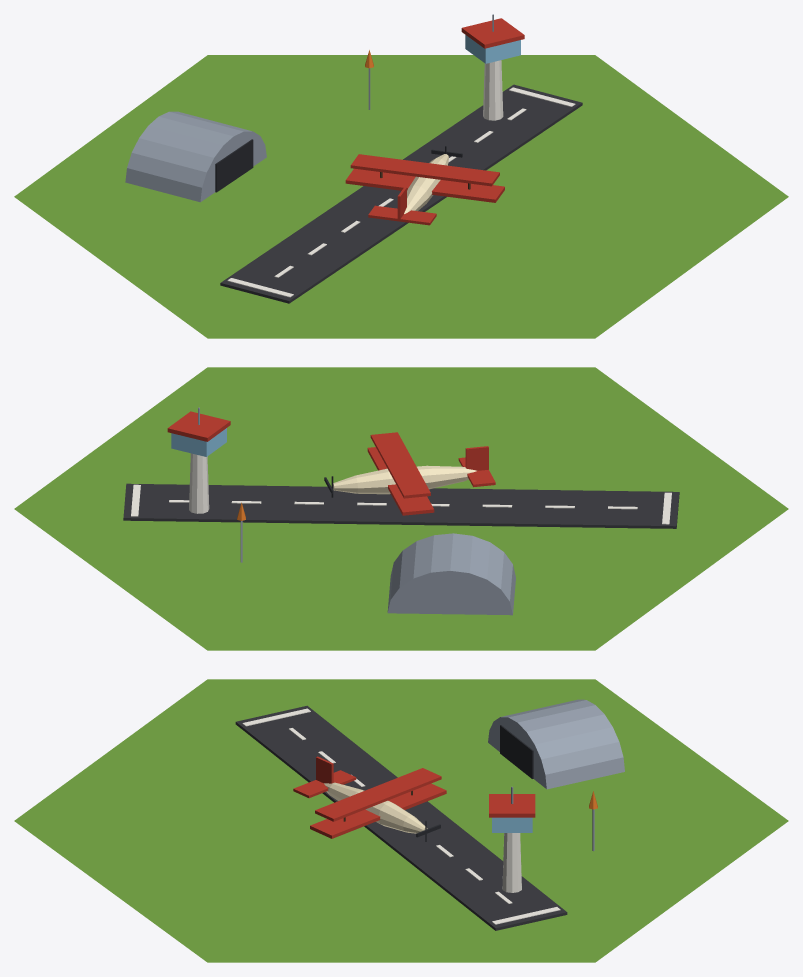
The model's file is district_aerodrome_1.fbx.
The picture shows the model from 3 angles, top to bottom: view 1: azimuth 30°, elevation 25°; view 2: azimuth 150°, elevation 25°; view 3: azimuth 270°, elevation 25°; orthographic projection.
Visible parts, largest first — view 1: district_aerodrome_1; view 2: district_aerodrome_1; view 3: district_aerodrome_1.
Boxes of the visible parts, x1=… form: district_aerodrome_1: x1=14, y1=14, x2=788, y2=338; district_aerodrome_1: x1=14, y1=367, x2=788, y2=650; district_aerodrome_1: x1=14, y1=679, x2=788, y2=962.
Bounding box in the file's own units: 182 × 31.6 × 210.
